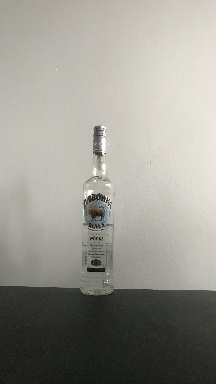butelka: (79, 122, 115, 298)
